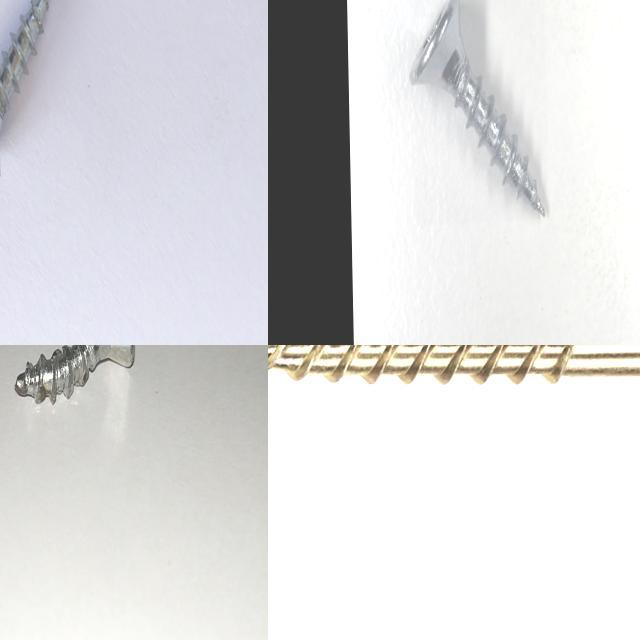Screw: (409, 0, 545, 215), (268, 345, 640, 385), (14, 345, 135, 403), (0, 0, 48, 130)
